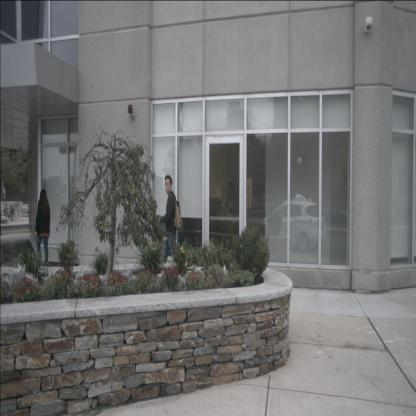human-pedestrian-adult: (158, 175, 184, 289), (35, 189, 51, 273)
vehicle-bicycle: (1, 204, 16, 221)
vehicle-car: (261, 200, 328, 252)
